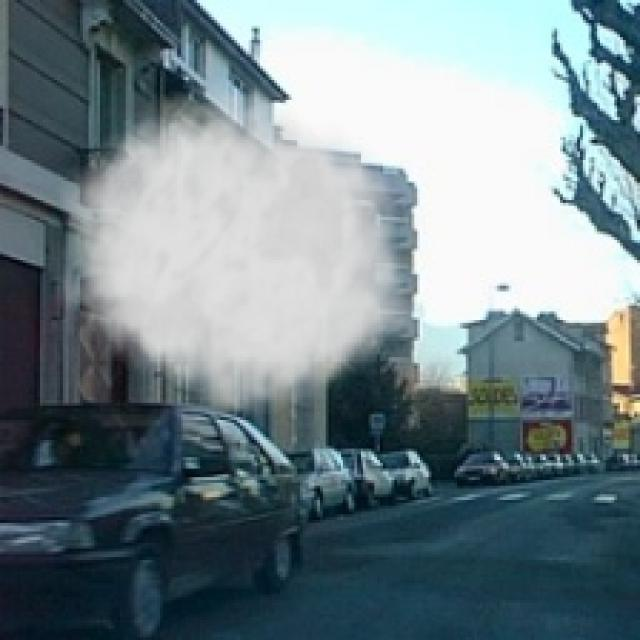Smoke: (54, 74, 426, 423)
